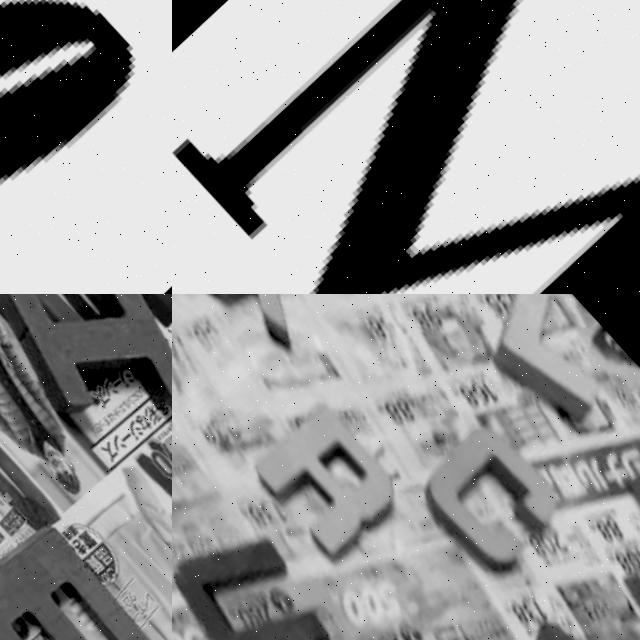C: (413, 416, 577, 580)
E: (0, 513, 166, 640)
I: (0, 294, 172, 476)
L: (456, 294, 640, 439)
M: (172, 0, 640, 294)
R: (248, 399, 416, 568)
U: (172, 503, 361, 640)
Y: (624, 428, 640, 583)
